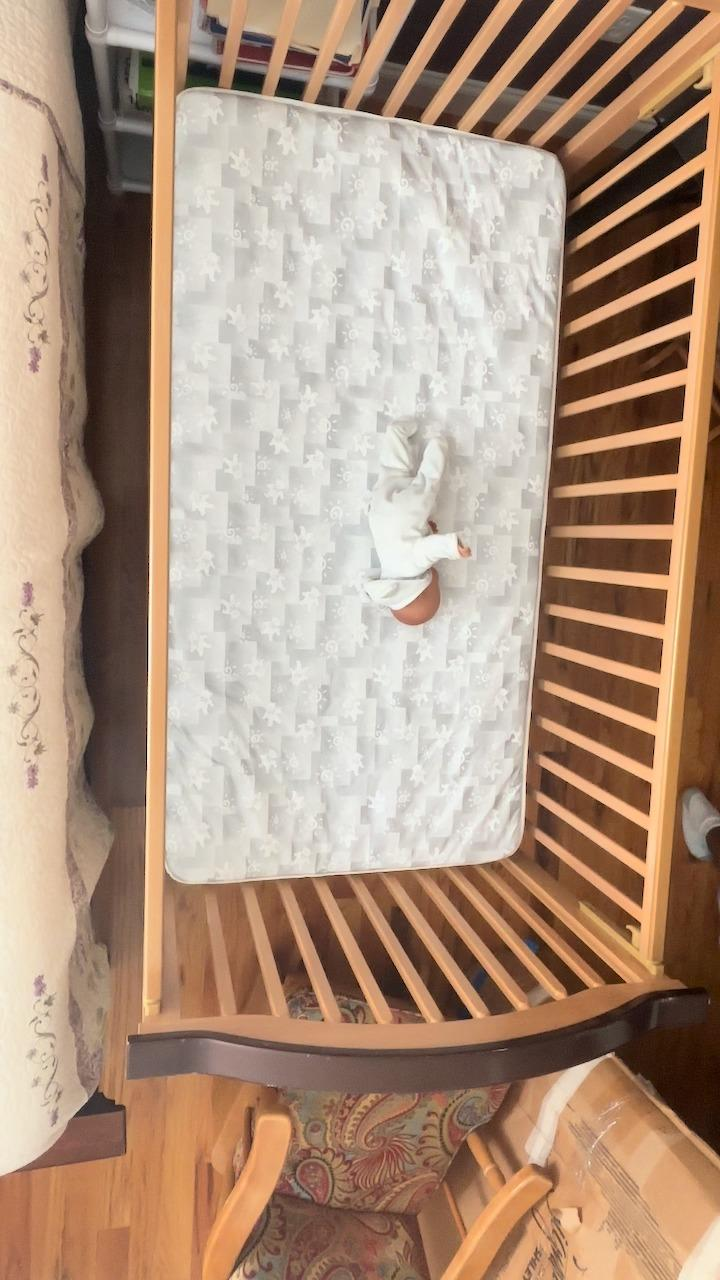baby: (357, 413, 478, 628)
